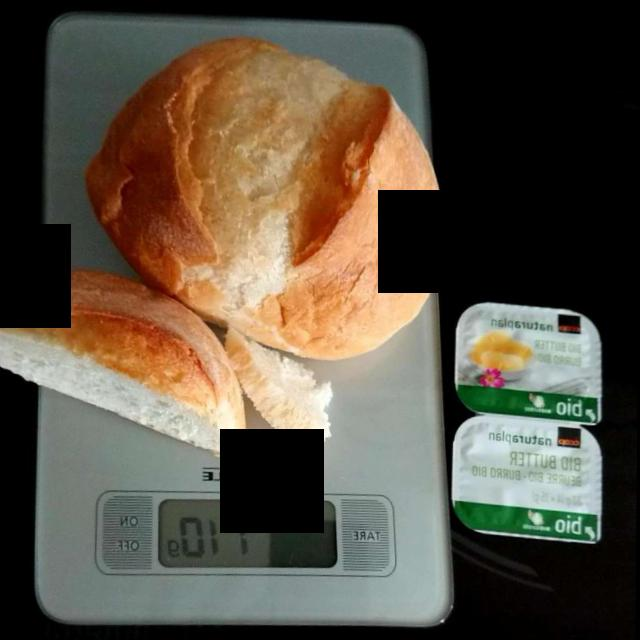bread-white: (1, 39, 453, 446)
